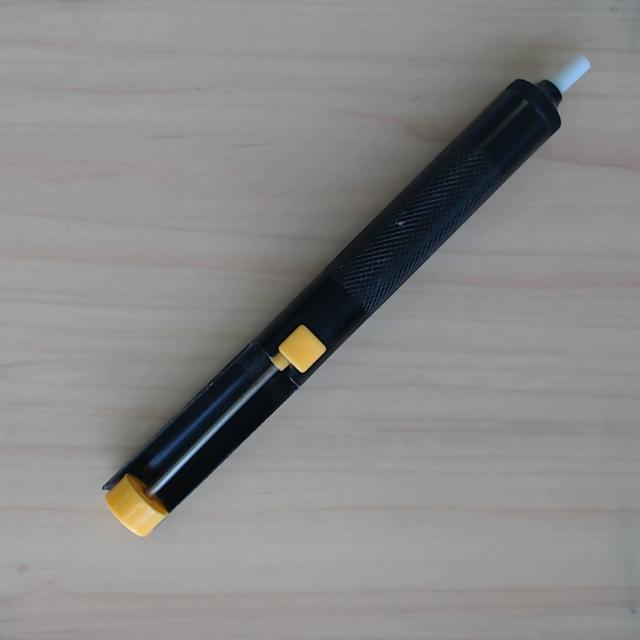Desoldering-Pump: (94, 32, 606, 545)
